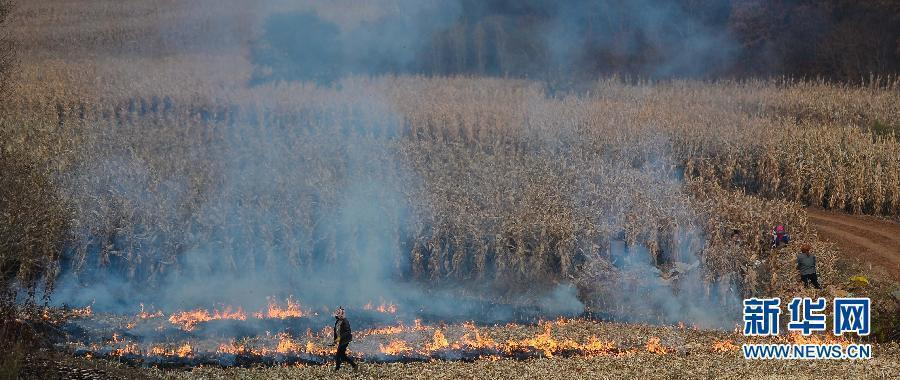fire: (53, 298, 632, 360), (708, 327, 860, 356), (643, 328, 664, 355)
